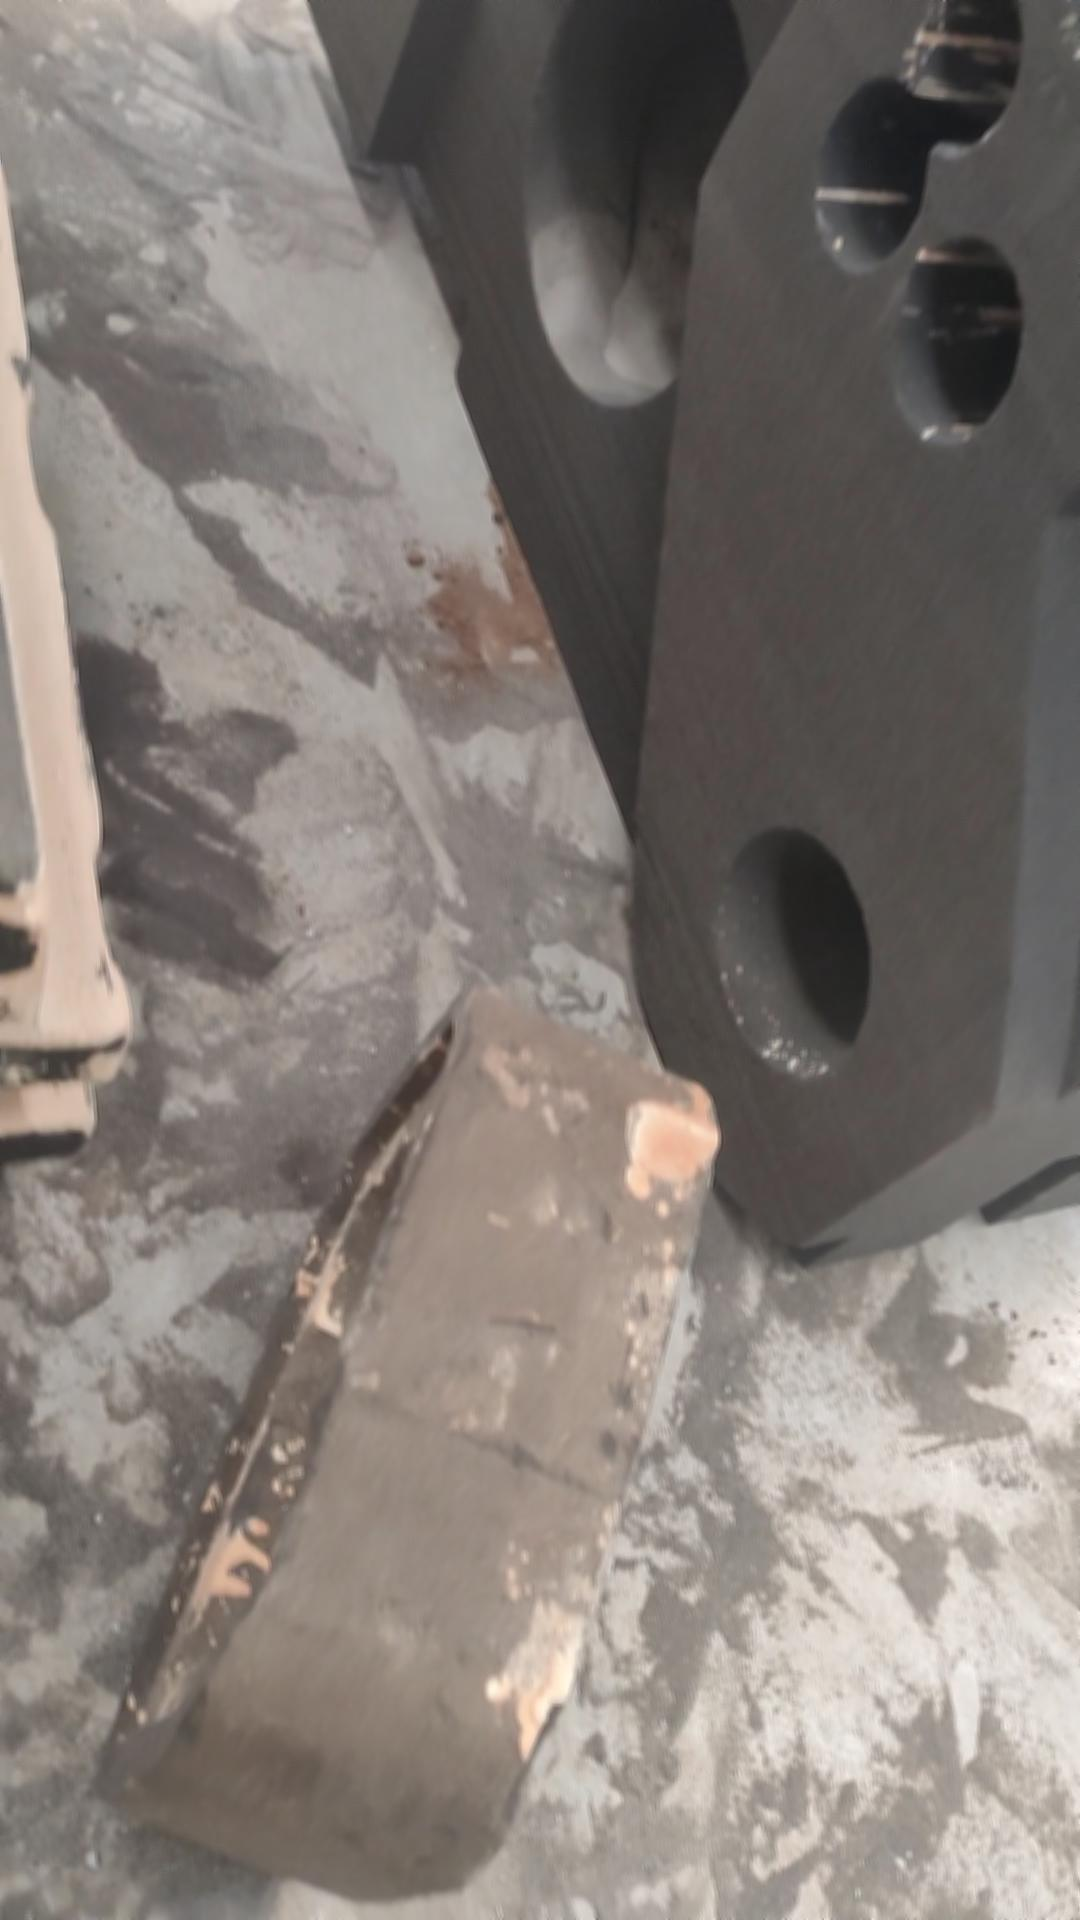pouring hole: (708, 827, 876, 1081)
